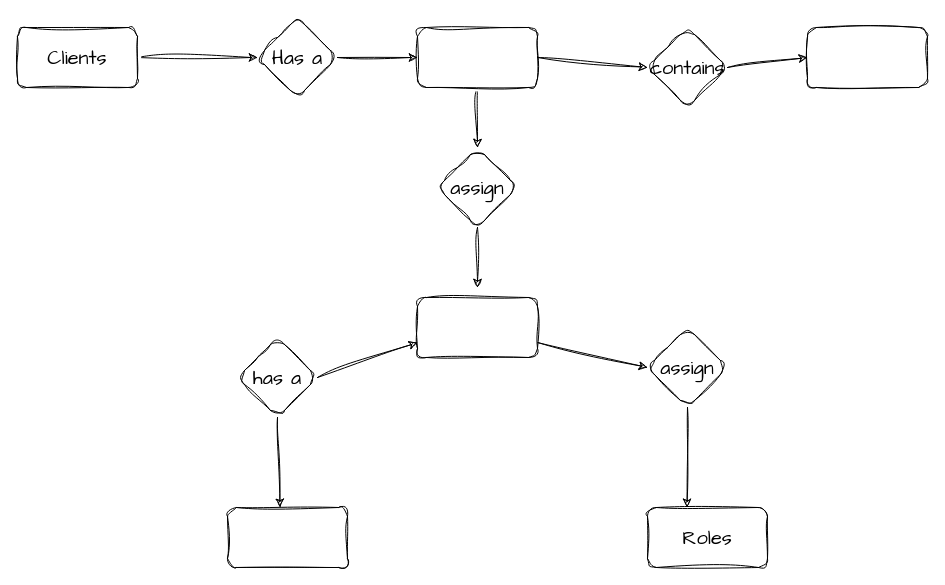
The diagram is 945 pixels wide and 585 high, and some of its shapes have lost their labels. The shapes that lost their labels are listed below. From the top down, each one's centre as x and y in pixels, then its label:
At [477,57]: "Case".
At [867,57]: "files".
At [477,327]: "staff".
At [287,537]: "Account".
